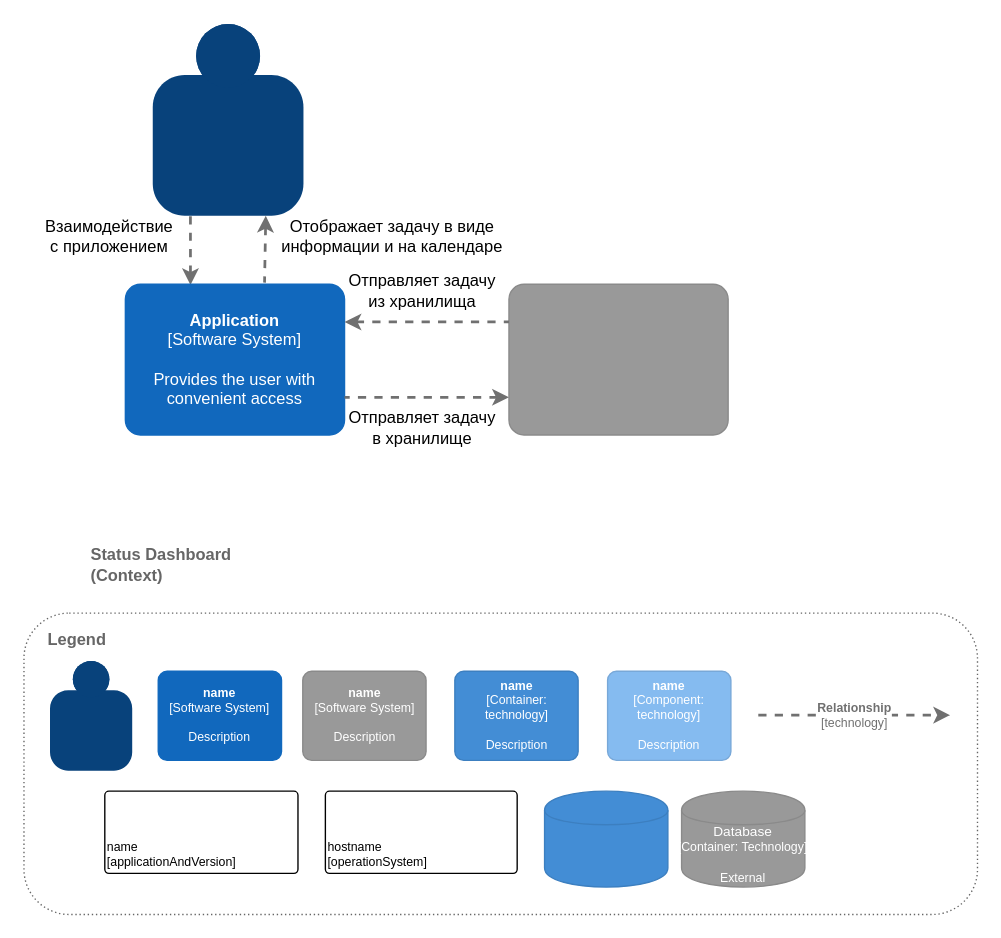
Some shapes in this 1001 by 938 pixel diagram are drawn without their labels. The centre of each missing label's shape, as x and y in pixels:
"Data Collection System [Software System] Contains information" belongs at (x=618, y=359).
"Database [Container: Technology] Description" belongs at (x=605, y=838).
"name [Person] Description" belongs at (x=90, y=715).
"User [Person] Work with applictaion" belongs at (x=227, y=119).
